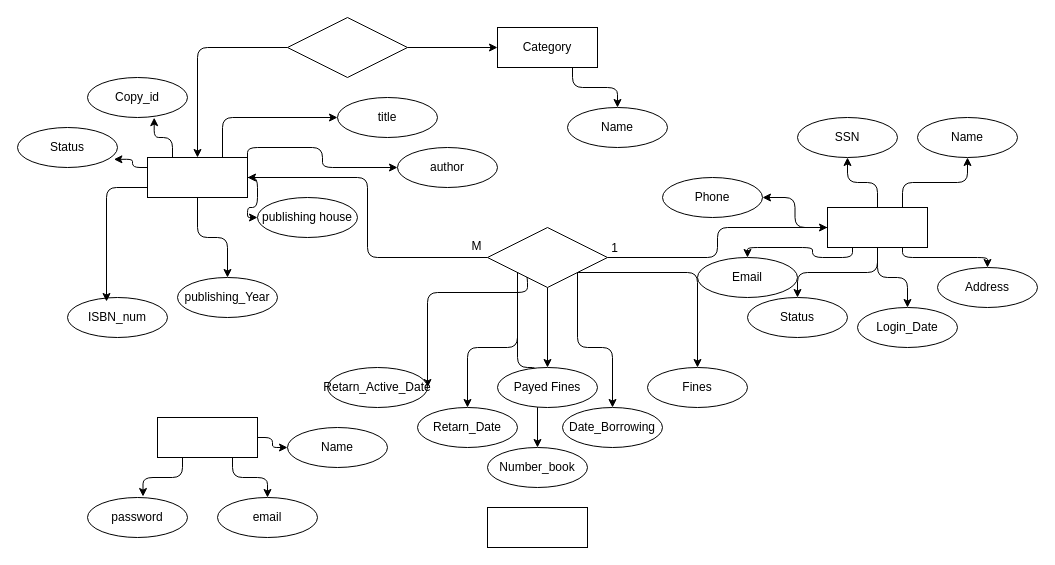
Image size: 1055x565. Some labels were removed from this diagram. Here are the shapes that lost their labels. From the top down, the centre of each, then its label:
point 347,47: Has
point 197,177: Book
point 877,227: Member
point 547,257: Borrowing
point 207,437: Employee
point 537,527: Purchases
